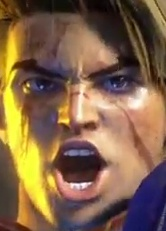kevin: (17, 14, 165, 230)
